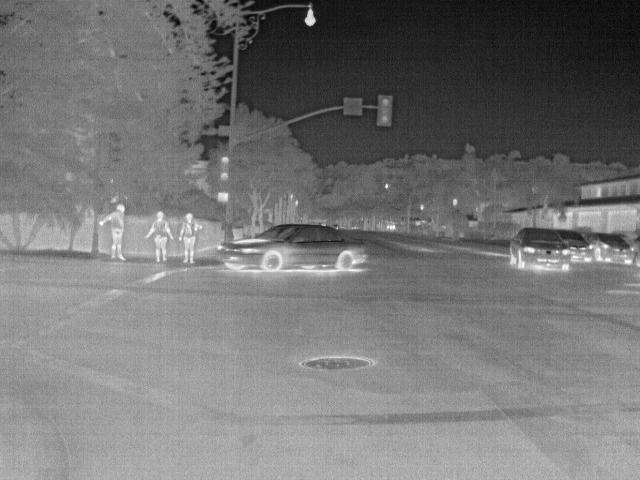car: (216, 221, 368, 276), (510, 227, 572, 274), (584, 231, 636, 265), (556, 228, 593, 262)
person: (143, 208, 174, 264), (98, 202, 127, 260), (176, 210, 202, 262)
